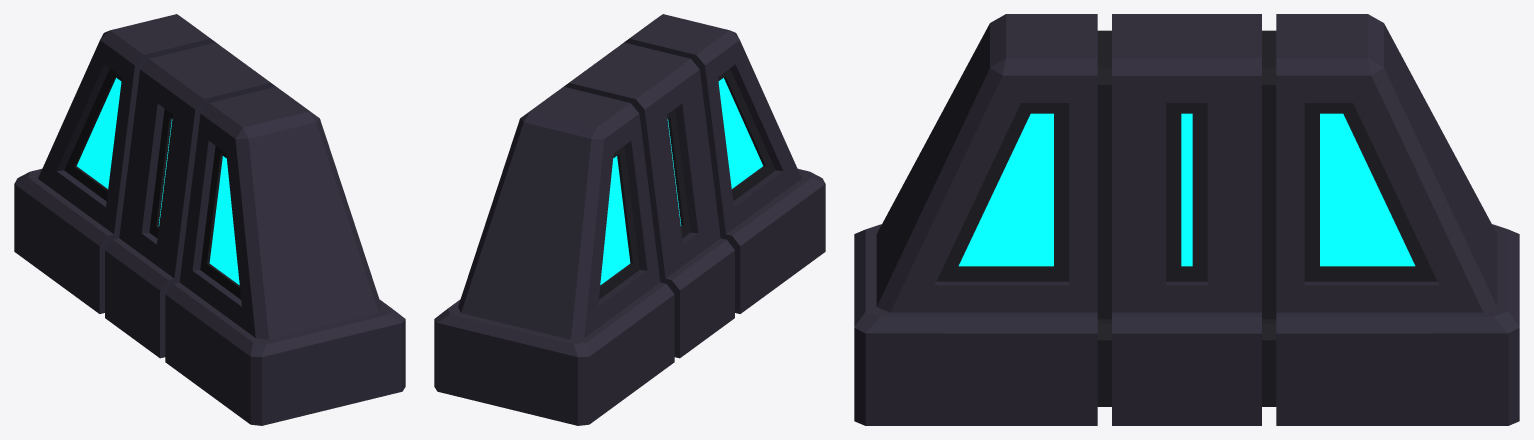
Rendered from SM_Barrier_03.fbx.
3 views of the same model, side by side, from view 1: azimuth 30°, elevation 25°; view 2: azimuth 150°, elevation 25°; view 3: azimuth 270°, elevation 25° (orthographic). The views are drawn at different scales.
Parts seen in each view (by area): view 1: SM_Barrier_03; view 2: SM_Barrier_03; view 3: SM_Barrier_03.
Boxes of the visible parts, box(x1,y1,x2,y2) form: SM_Barrier_03: box(14, 14, 405, 425); SM_Barrier_03: box(434, 14, 825, 425); SM_Barrier_03: box(854, 14, 1519, 425).
Size of the model in its own units: 34.8 by 53.32 by 95.09.
